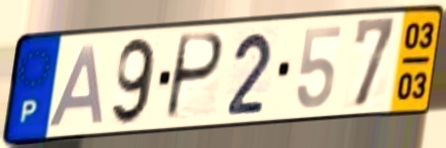2: (221, 25, 278, 122)
5: (293, 23, 344, 111)
7: (352, 14, 398, 111)
9: (109, 35, 160, 128)
A: (45, 42, 107, 130)
P: (162, 31, 227, 124)
